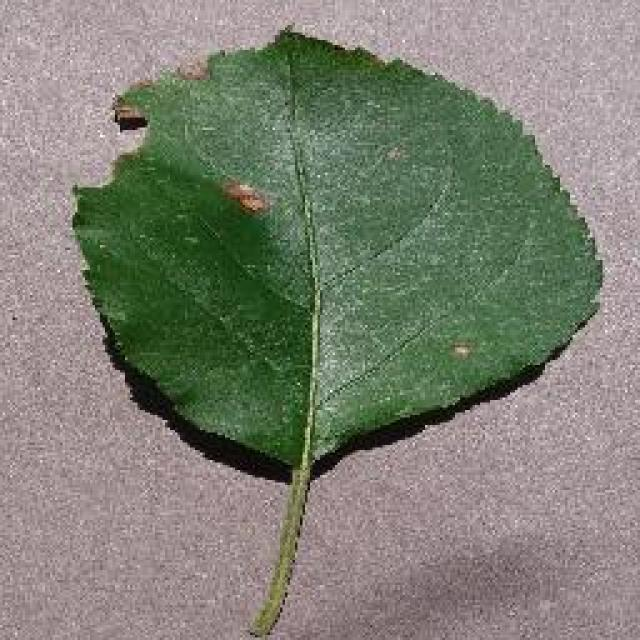Black_rot: (67, 22, 605, 638)
